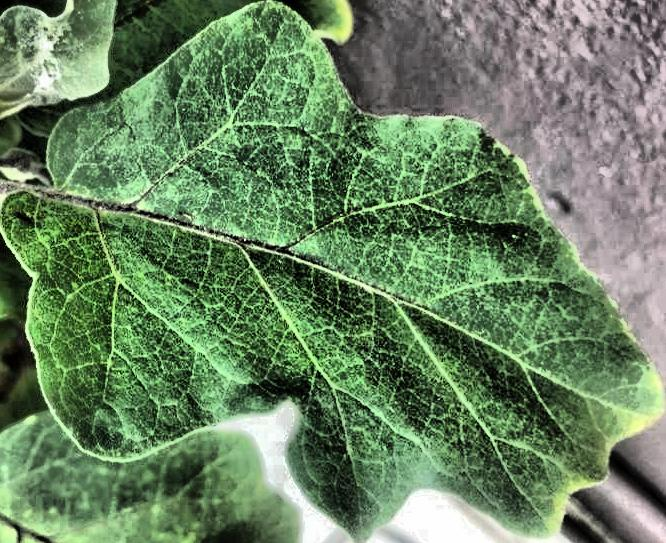HEALTHY: (1, 1, 666, 543)
